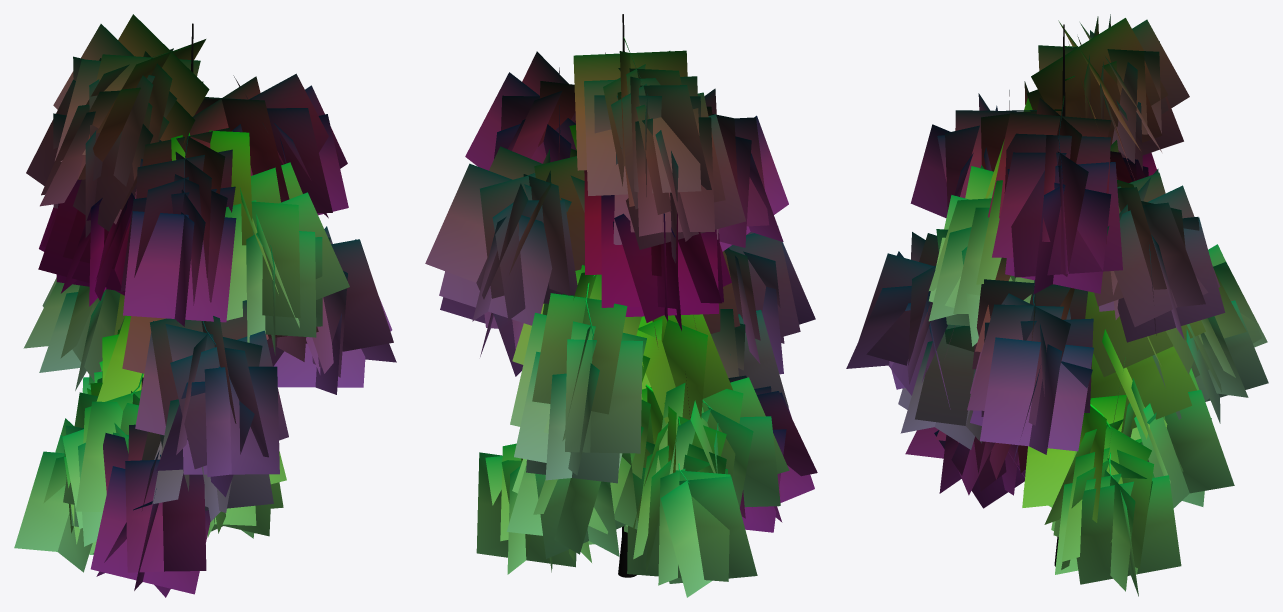
Rendered from URP_P13_Tree_2_LOD_1.fbx.
The picture shows the model from 3 angles, left to right: view 1: azimuth 30°, elevation 25°; view 2: azimuth 150°, elevation 25°; view 3: azimuth 270°, elevation 25°; orthographic projection. The views are drawn at different scales.
Parts seen in each view (by area): view 1: Tree_2_LOD_1; view 2: Tree_2_LOD_1; view 3: Tree_2_LOD_1.
Boxes of the visible parts, x1,y1,x2,y2 form: Tree_2_LOD_1: (14,14,396,597); Tree_2_LOD_1: (425,14,817,597); Tree_2_LOD_1: (846,14,1268,596).
Size of the model in its own units: 394 by 602 by 425.
